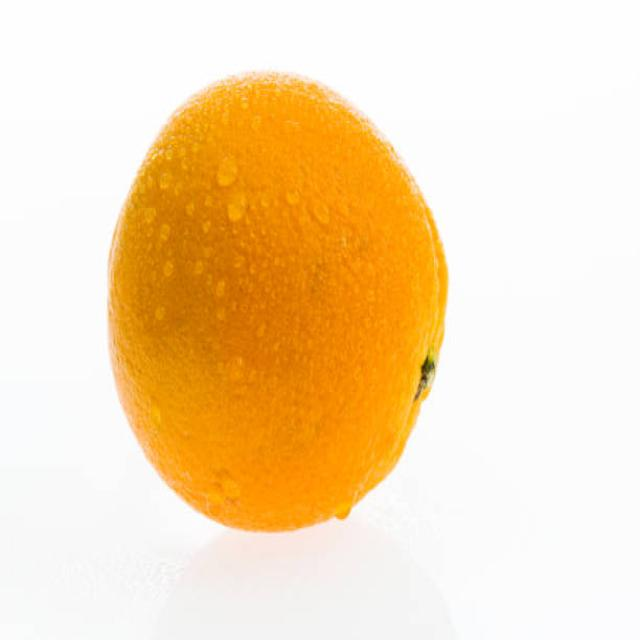Ripe: (99, 63, 455, 536)
